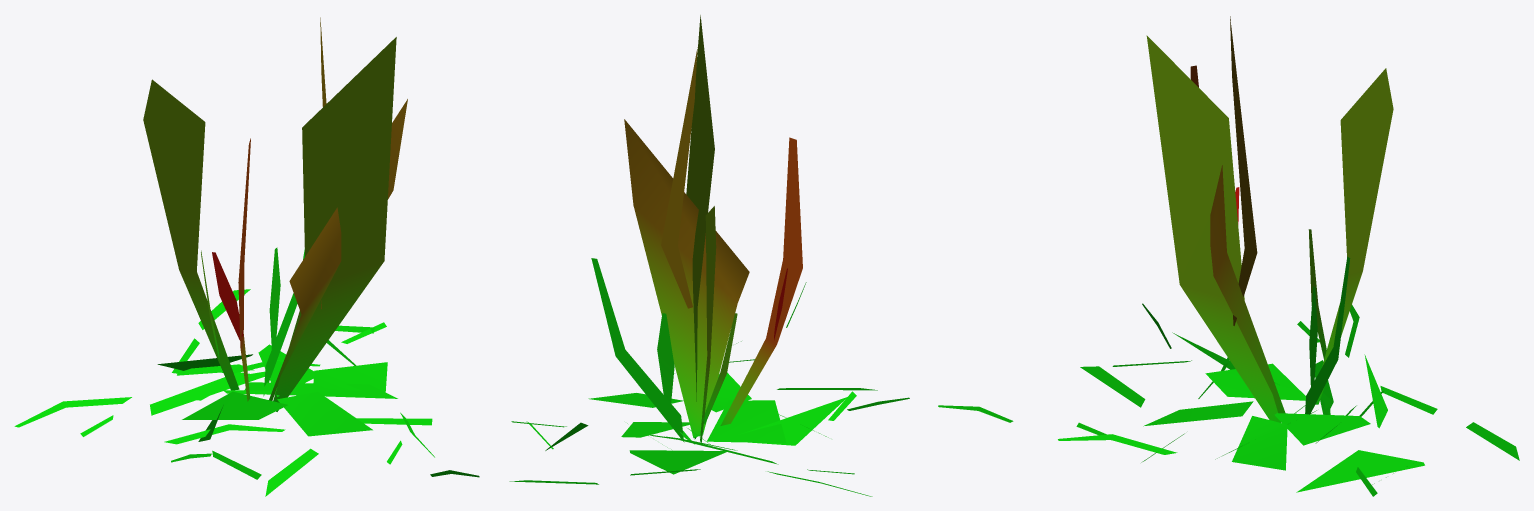
The model's file is Var1_LOD3.fbx.
3 renders of one model, left to right at view 1: azimuth 30°, elevation 25°; view 2: azimuth 150°, elevation 25°; view 3: azimuth 270°, elevation 25°, orthographic. The views are drawn at different scales.
Parts seen in each view (by area): view 1: _uiff_Var1_LOD3; view 2: _uiff_Var1_LOD3; view 3: _uiff_Var1_LOD3.
Part boxes in pixels (left/top/right/bottom): _uiff_Var1_LOD3: left=14, top=17, right=479, bottom=496; _uiff_Var1_LOD3: left=509, top=15, right=909, bottom=496; _uiff_Var1_LOD3: left=938, top=16, right=1519, bottom=496.
Bounding box in the file's own units: 29.45 × 30.33 × 36.87.
